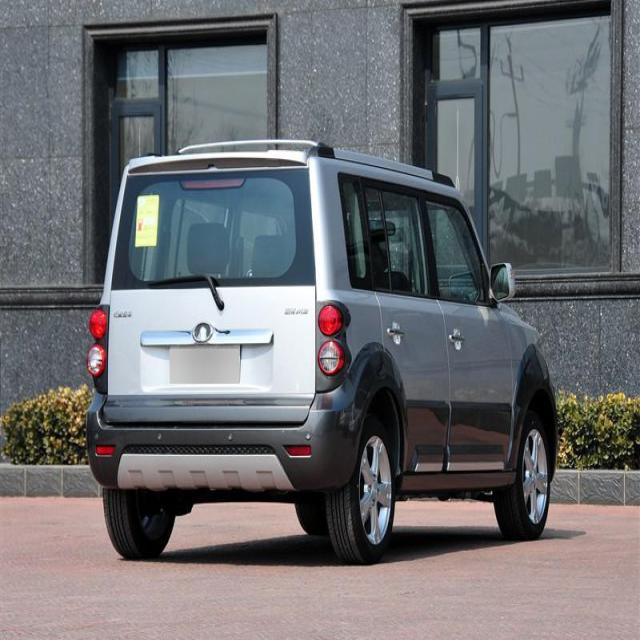back_glass: (110, 162, 316, 294)
back_left_side_light: (86, 306, 110, 383)
back_right_side_light: (314, 302, 346, 378)
door: (358, 175, 450, 471)
front_right_side_door: (417, 182, 517, 469)
front_right_side_mirror: (489, 260, 514, 307)
rear_bumper: (84, 392, 357, 496)
wheel: (326, 426, 396, 561), (493, 413, 551, 537), (102, 488, 174, 556)
